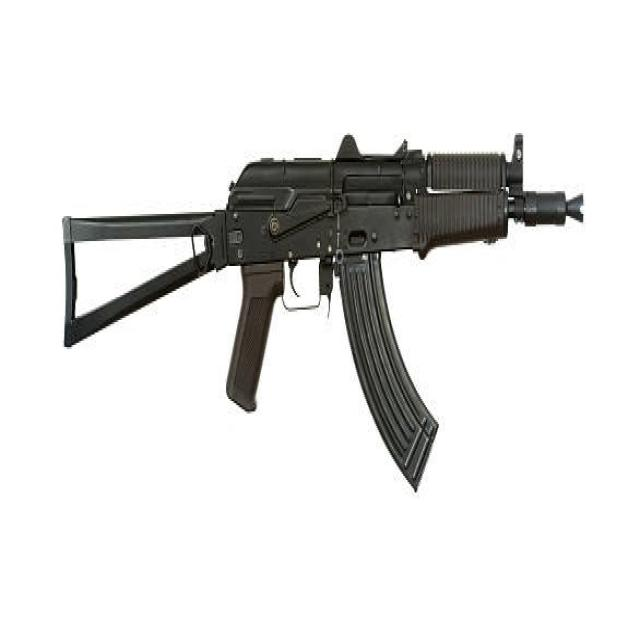rifle: (61, 124, 594, 517)
